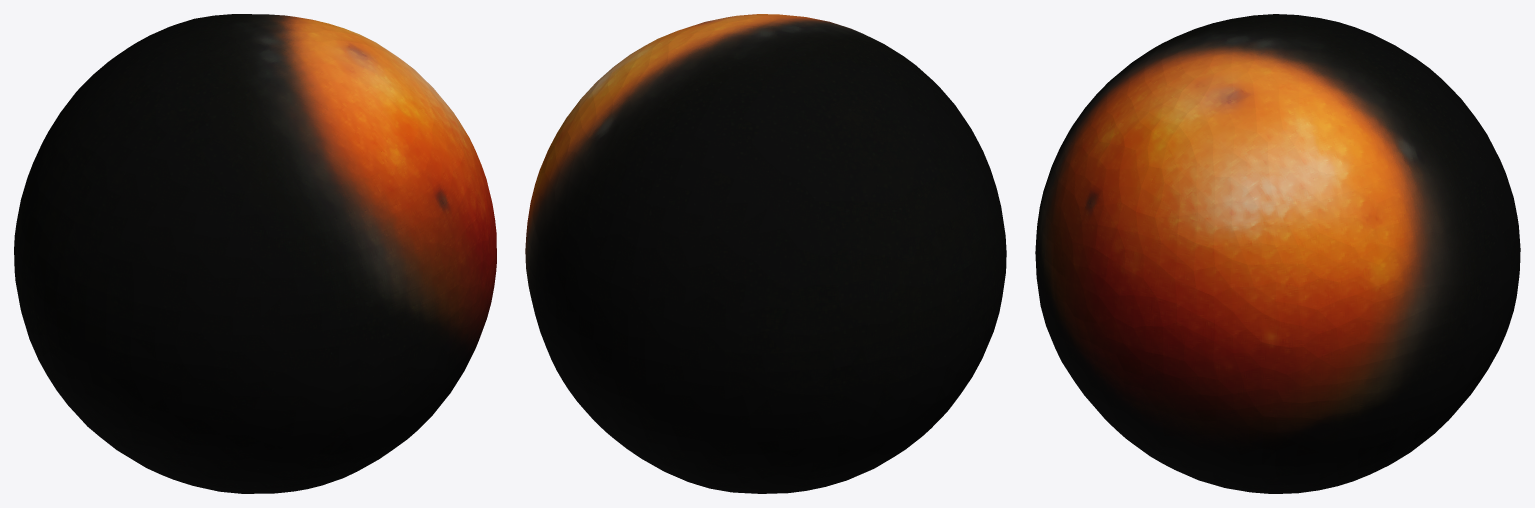
The picture shows the model from 3 angles, left to right: view 1: azimuth 30°, elevation 25°; view 2: azimuth 150°, elevation 25°; view 3: azimuth 270°, elevation 25°; orthographic projection.
Parts seen in each view (by area): view 1: world; view 2: world; view 3: world.
Boxes of the visible parts, x1,y1,x2,y2 form: world: [14, 14, 496, 493]; world: [525, 14, 1006, 493]; world: [1035, 14, 1520, 493].
Bounding box in the file's own units: 0.3986 × 0.387 × 0.398.
1 material, 1 textured.
